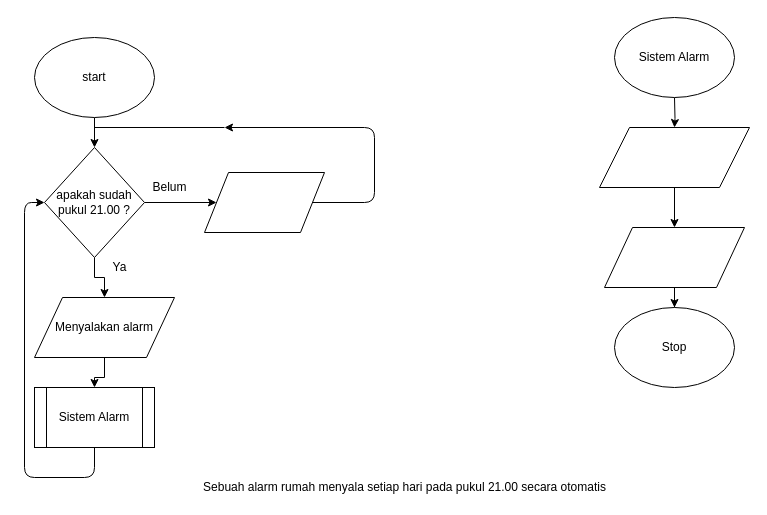
Image size: 767x515. Some labels were removed from this diagram. The shapes that lost their labels are listed below. From the top down, each one's centre as x and y in pixels, then its label:
the point at 674,157: Nyalakan bel alarm
the point at 264,202: Matikan alarm
the point at 674,257: Matikan bel alarm
